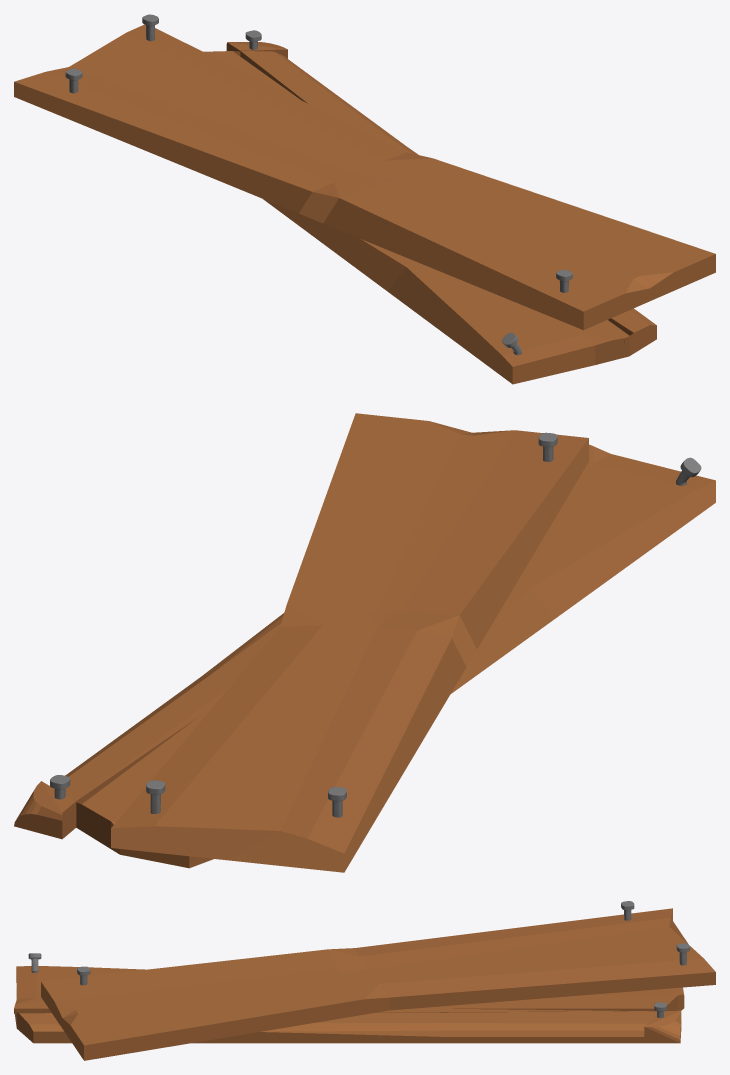
Rendered from Wooden_Plank01.fbx.
3 views of the same model, one above another, from view 1: azimuth 30°, elevation 25°; view 2: azimuth 150°, elevation 25°; view 3: azimuth 270°, elevation 25° (orthographic). The views are drawn at different scales.
Visible parts, largest first — view 1: Cube.001; view 2: Cube.001; view 3: Cube.001.
Boxes of the visible parts, x1,y1,x2,y2 form: Cube.001: [14, 14, 715, 384]; Cube.001: [14, 413, 715, 872]; Cube.001: [14, 901, 715, 1060].
Size of the model in its own units: 1212 by 215 by 2568.
